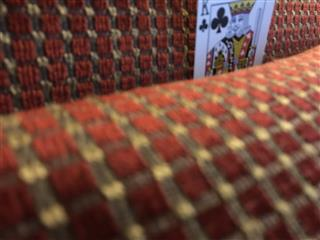KingOfClubs: (192, 1, 275, 80)
